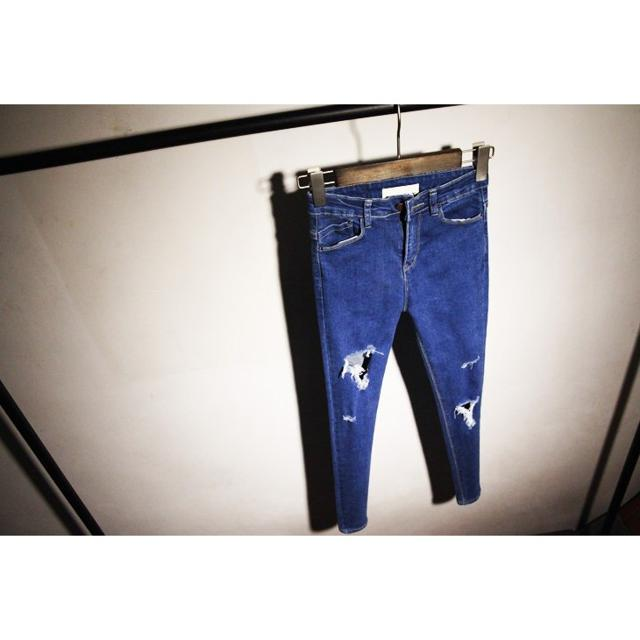Pants_Leggings: (306, 151, 480, 526)
